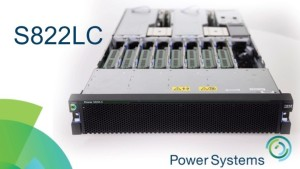ibm-server: (64, 91, 295, 139)
